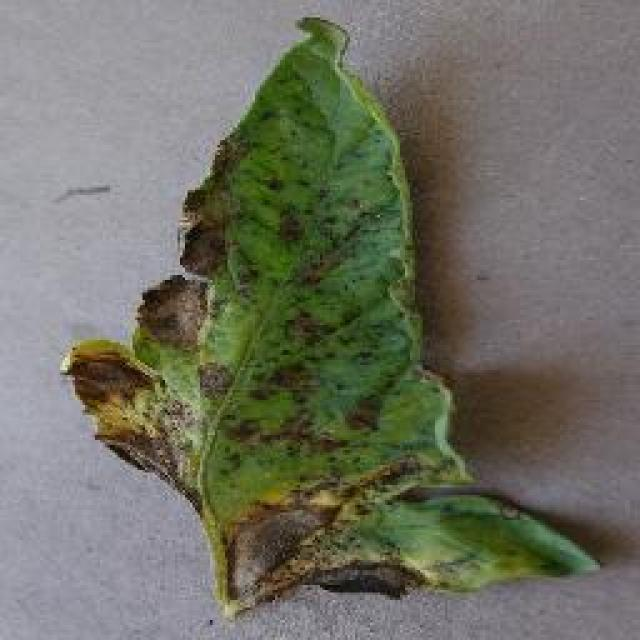Tomato Early blight leaf: (84, 40, 571, 602)
